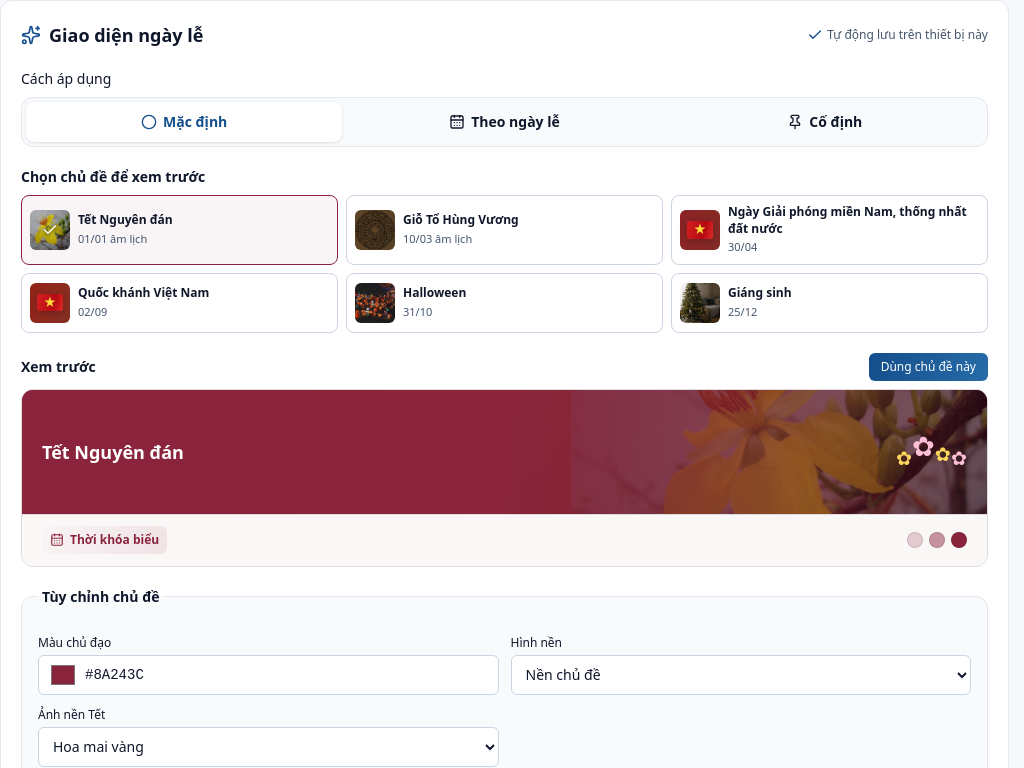
previews on a single click and applies on a double click
Click the button "Halloween 31/10" at (375, 302), box [346,272,663,332]
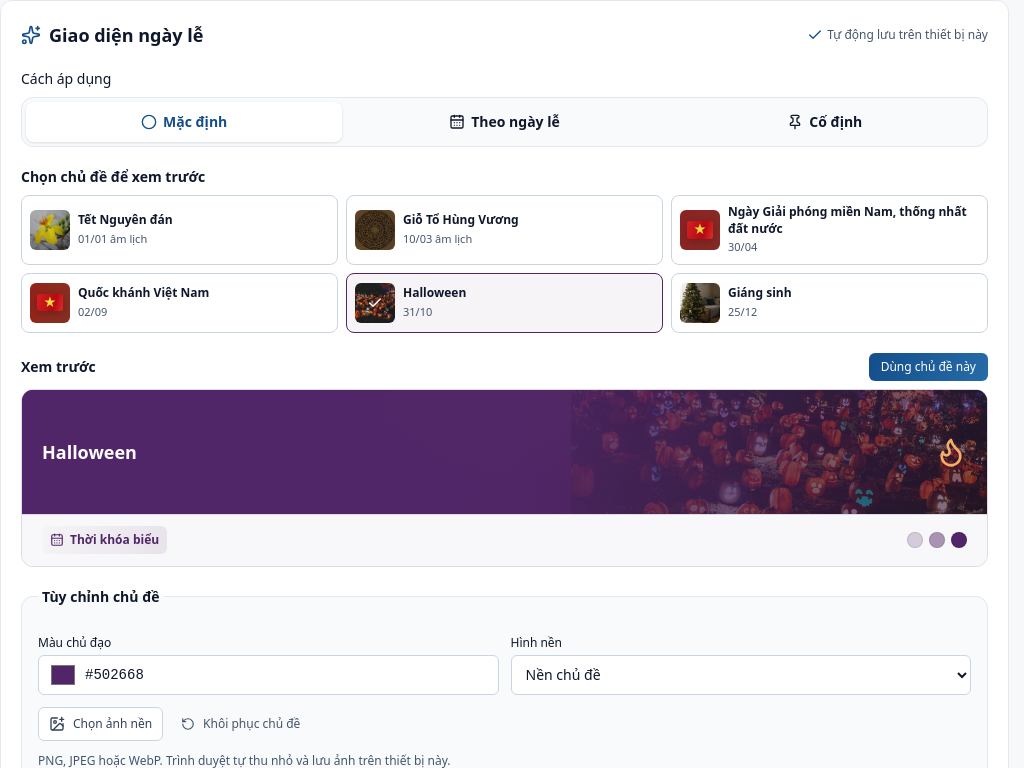
Expected: the 2nd text with class "holiday-flag" is shown, [37,294,63,311]
Result: the element with class "holiday-banner" reads "Halloween" at [42,440,137,464]
Double-click the button "★ Quốc khánh Việt Nam 02/09" at (180, 302), box [21,272,338,332]
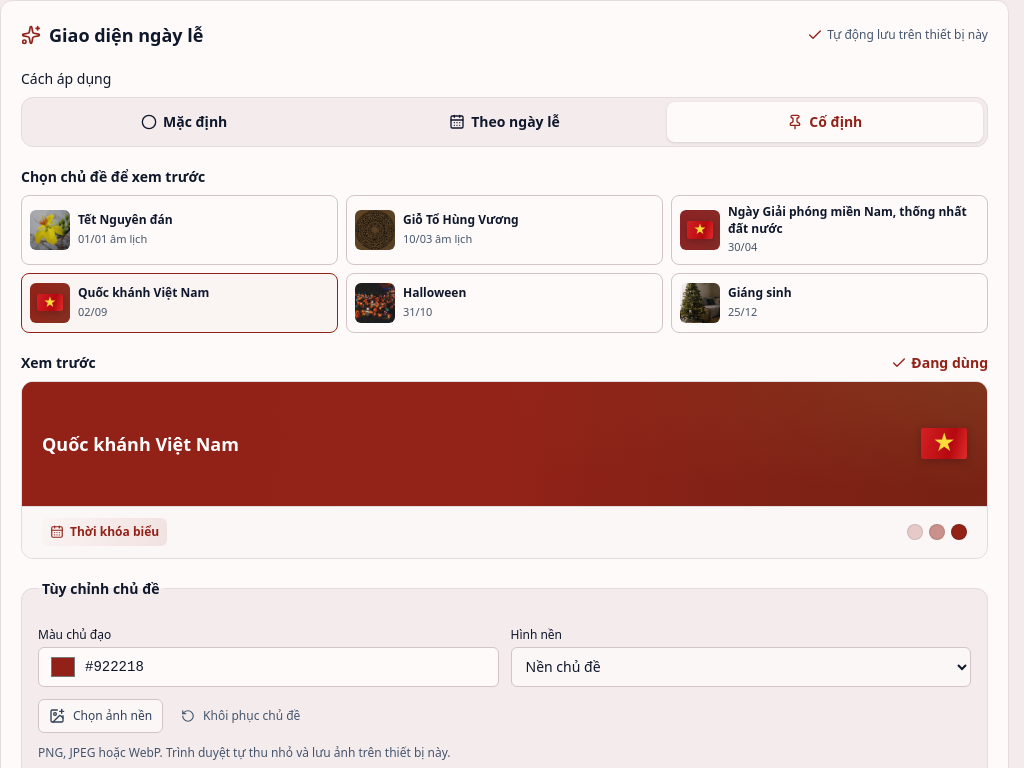
Result: the text with class "holiday-flag" below "Đang dùng" is shown at [921,428,967,459]
